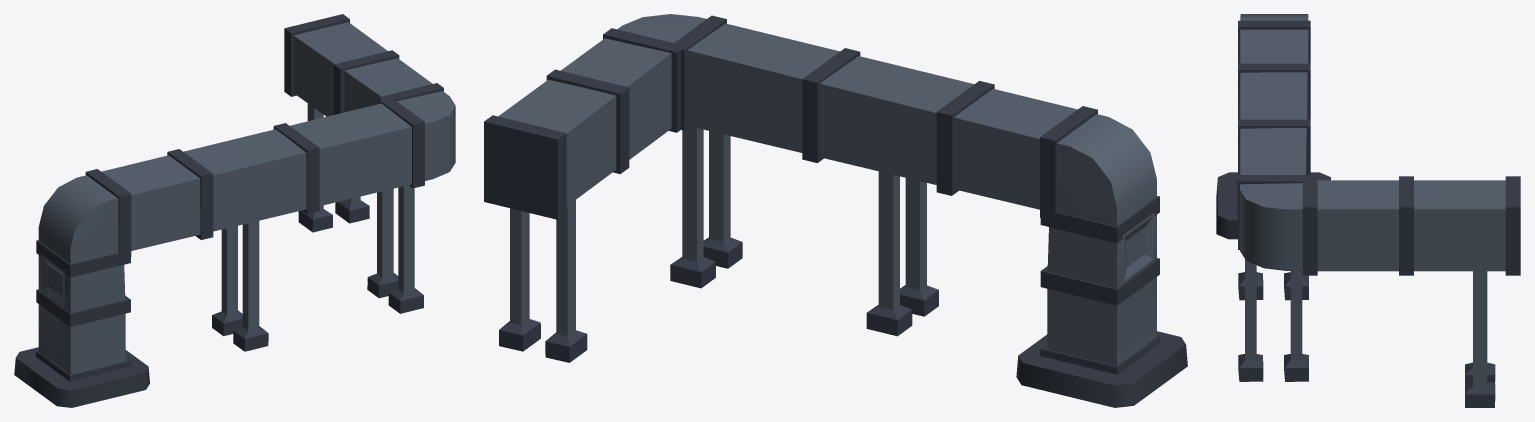
File: Vent_2_A_7.fbx
3 views of the same model, side by side, from view 1: azimuth 30°, elevation 25°; view 2: azimuth 150°, elevation 25°; view 3: azimuth 270°, elevation 25° (orthographic). The views are drawn at different scales.
Parts seen in each view (by area): view 1: Vent_2_A_7; view 2: Vent_2_A_7; view 3: Vent_2_A_7.
Part boxes in pixels (x1,y1,x2,y2): Vent_2_A_7: (14,14,455,407); Vent_2_A_7: (484,14,1187,407); Vent_2_A_7: (1216,14,1520,407).
Bounding box in the file's own units: 257 × 111 × 149.
